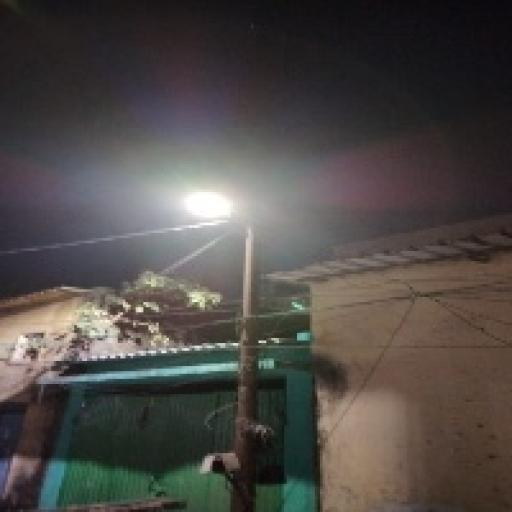Working: (167, 180, 247, 234)
